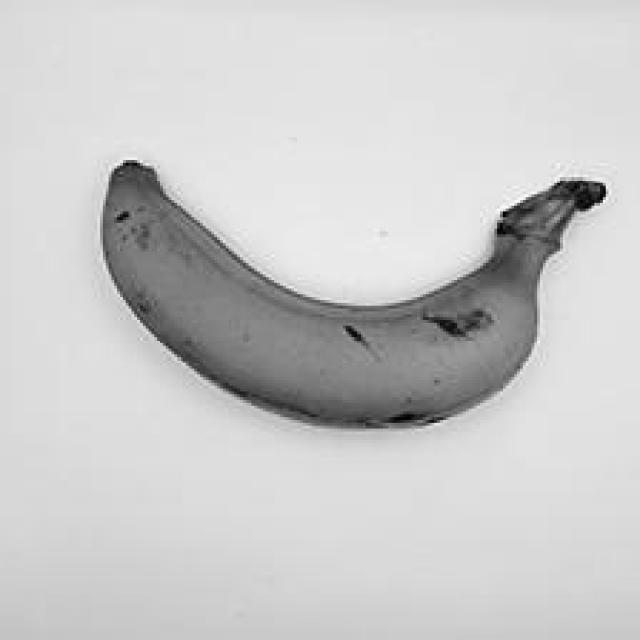Raw: (86, 109, 616, 449)
